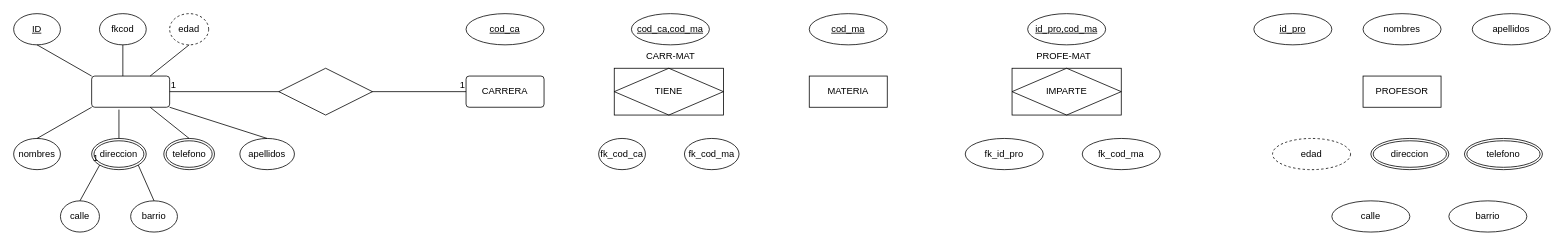
The diagram is 1564 pixels wide and 246 high, and some of its shapes have lost their labels. Each missing label, with the box of its shape:
ALUMNO: (91, 75, 170, 107)
estudia: (278, 67, 372, 115)
